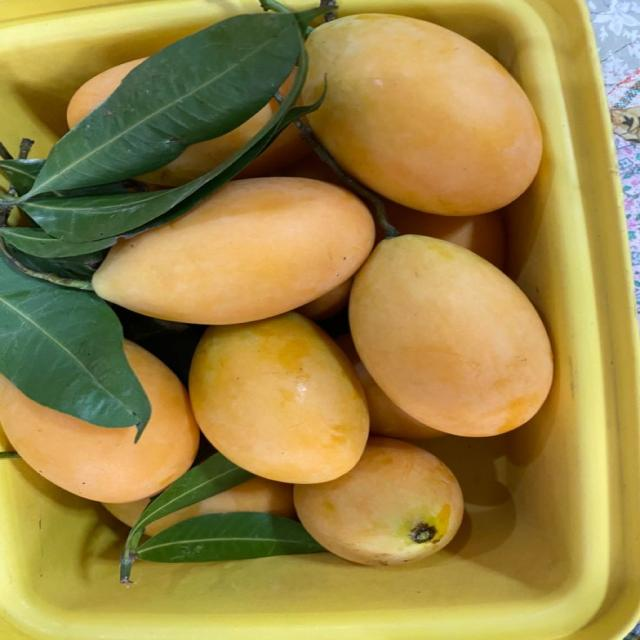mango: (303, 14, 541, 215), (94, 178, 374, 324), (350, 235, 553, 435), (0, 341, 199, 502), (190, 312, 368, 483), (294, 438, 463, 564), (141, 99, 278, 185)
